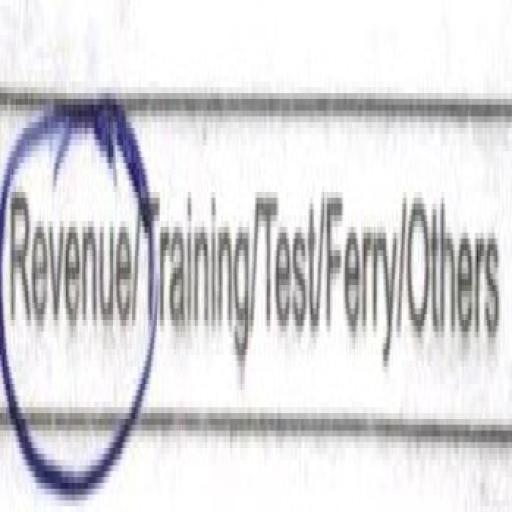check: (0, 58, 138, 512)
